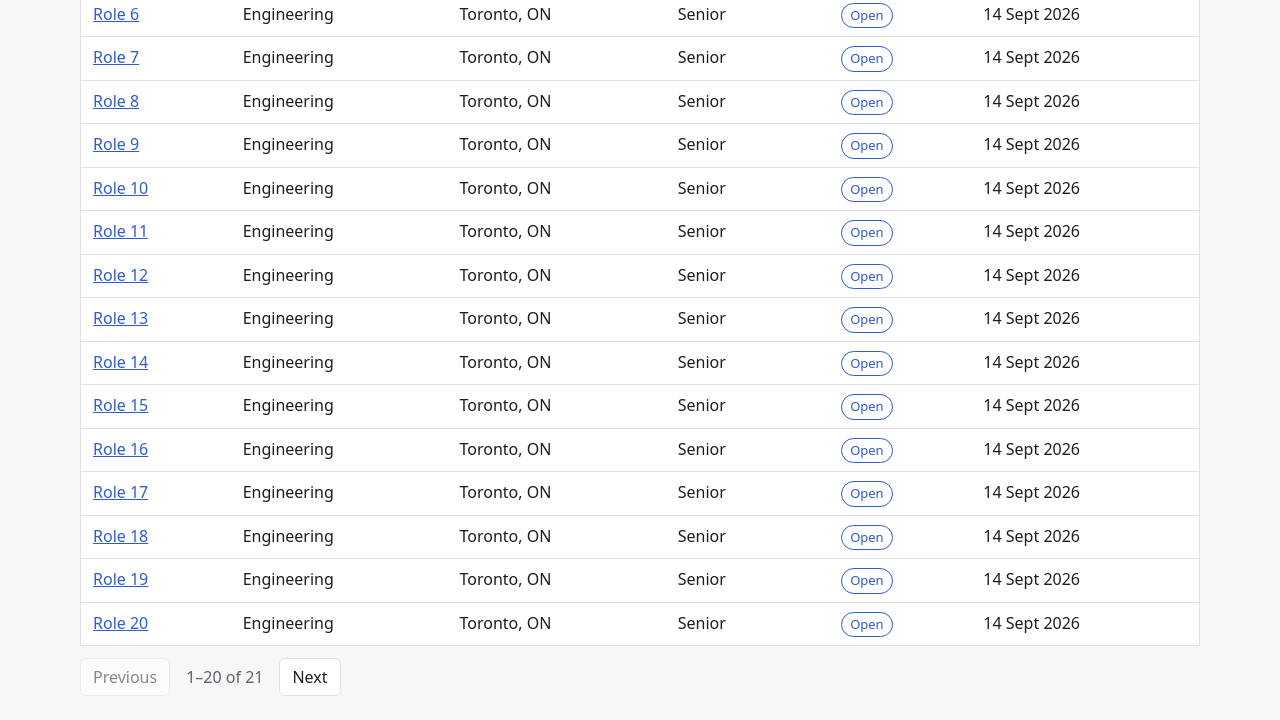
job list › lists jobs with links to each and pages through them
(page scrolled)
Check: the text "1–20 of 21" is shown, box [186,665,264,689]
Click the button "Next" at (310, 677), box [279,658,340,696]
(page scrolled)
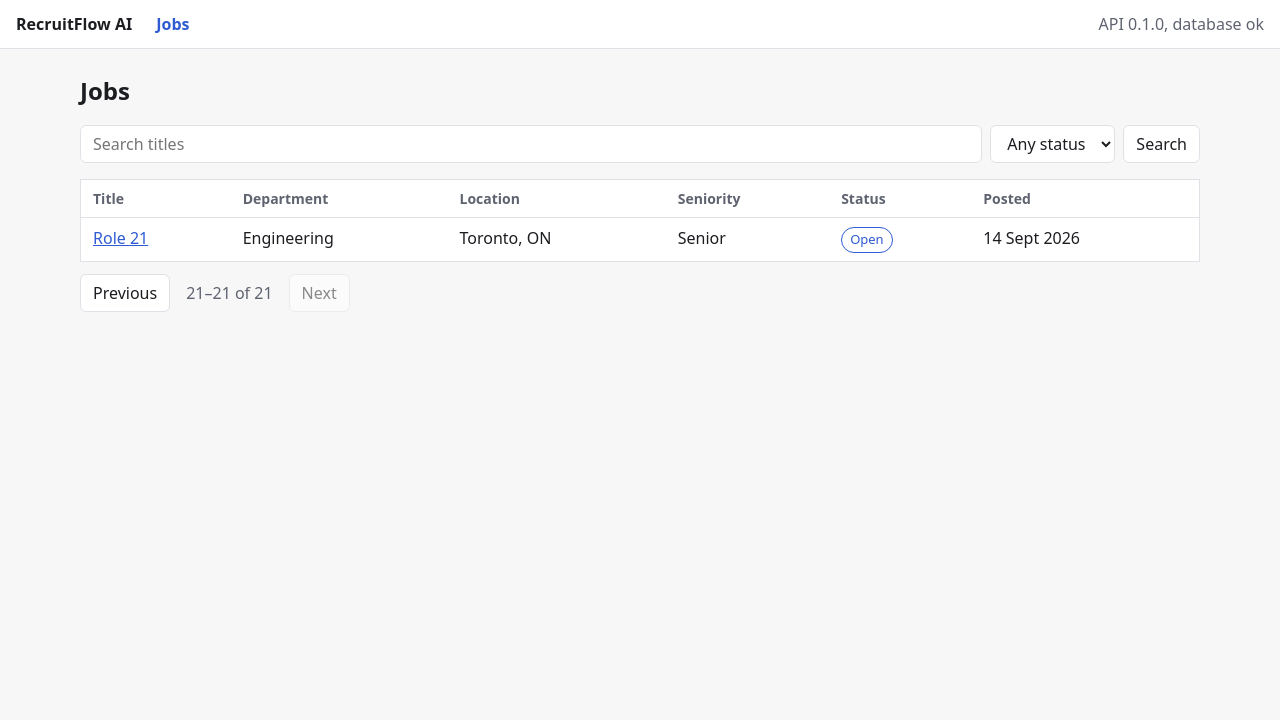
Check: the link "Role 21" is shown, box [93,227,148,249]
Check: the text "21–21 of 21" is shown, box [186,280,273,304]
Check: the button "Next" is disabled, box [289,274,350,312]
